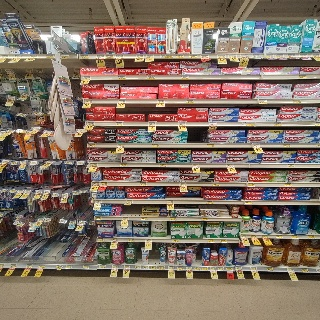All PRICE TAGS: (243, 122, 255, 126), (161, 54, 173, 58), (5, 69, 14, 74), (13, 54, 22, 59), (16, 221, 24, 226), (16, 129, 26, 133), (83, 99, 93, 103), (7, 96, 15, 101), (25, 68, 33, 73), (298, 75, 308, 79), (61, 54, 69, 59), (206, 143, 215, 147), (89, 163, 98, 167), (240, 54, 249, 58), (217, 54, 226, 58), (201, 54, 210, 58), (292, 99, 301, 103), (259, 99, 268, 103), (311, 53, 320, 57), (299, 53, 308, 57), (287, 54, 296, 58), (45, 55, 54, 59), (29, 55, 38, 59), (0, 55, 9, 59), (79, 54, 88, 58), (98, 265, 106, 269), (206, 200, 214, 204), (179, 182, 187, 186), (120, 163, 128, 167), (88, 143, 96, 147), (210, 122, 218, 126), (116, 122, 124, 126), (147, 75, 155, 79), (190, 54, 198, 58), (86, 122, 94, 126), (301, 268, 309, 272), (266, 267, 274, 271), (250, 267, 258, 271), (307, 235, 315, 239), (92, 182, 100, 186), (285, 183, 293, 187), (274, 122, 282, 126), (157, 99, 165, 103), (276, 54, 284, 58), (176, 266, 184, 270), (157, 266, 165, 270), (74, 68, 79, 74), (36, 68, 42, 73), (135, 265, 142, 269), (123, 265, 130, 269), (111, 265, 118, 269), (207, 239, 214, 243), (145, 238, 152, 242), (111, 237, 118, 241), (97, 237, 104, 241), (125, 199, 132, 203), (121, 216, 128, 220), (94, 216, 101, 220), (192, 163, 199, 167), (117, 143, 124, 147), (149, 122, 156, 126), (69, 220, 76, 224), (79, 221, 86, 225), (61, 193, 68, 197), (17, 190, 24, 194), (33, 127, 40, 131), (22, 92, 29, 96), (10, 264, 17, 268), (291, 235, 298, 239), (250, 234, 257, 238), (140, 182, 147, 186), (253, 143, 260, 147), (283, 143, 290, 147), (83, 76, 90, 80), (267, 54, 274, 58), (147, 54, 154, 58), (218, 266, 225, 270), (210, 266, 217, 270), (194, 266, 201, 270), (186, 266, 193, 270), (167, 266, 174, 270), (149, 265, 156, 269), (180, 76, 189, 79), (252, 54, 261, 57), (229, 54, 238, 57), (56, 265, 61, 270), (143, 265, 149, 269), (169, 217, 177, 220), (226, 164, 234, 167), (159, 164, 167, 167), (151, 144, 159, 147), (178, 122, 186, 125), (186, 100, 194, 103), (89, 221, 95, 225), (60, 219, 66, 223), (52, 193, 58, 197), (35, 190, 41, 194), (24, 189, 30, 193), (10, 189, 16, 193), (7, 129, 13, 133), (2, 160, 8, 164), (77, 161, 83, 165), (66, 160, 72, 164), (46, 160, 52, 164), (31, 161, 37, 165), (45, 130, 51, 134), (26, 264, 32, 268), (38, 264, 44, 268), (66, 265, 72, 269), (83, 265, 89, 269), (286, 268, 294, 271), (236, 266, 242, 270), (275, 235, 283, 238), (261, 235, 269, 238), (241, 234, 247, 238), (287, 164, 295, 167), (118, 76, 126, 79), (176, 55, 184, 58), (96, 55, 104, 58), (115, 55, 123, 58), (135, 55, 143, 58), (227, 266, 233, 270), (172, 239, 179, 242), (128, 238, 135, 241), (213, 183, 220, 186), (201, 217, 208, 220), (167, 200, 174, 203), (141, 217, 148, 220), (100, 182, 107, 185), (94, 200, 101, 203), (118, 100, 125, 103), (19, 161, 26, 164), (17, 113, 24, 116), (202, 267, 209, 270), (245, 201, 252, 204), (45, 218, 50, 222), (74, 191, 79, 195), (44, 190, 49, 194), (220, 239, 226, 242), (38, 218, 44, 221), (17, 215, 23, 218), (1, 189, 7, 192), (80, 190, 86, 193), (34, 112, 40, 115), (248, 183, 254, 186), (0, 264, 5, 267), (11, 162, 17, 164), (315, 122, 319, 125)
